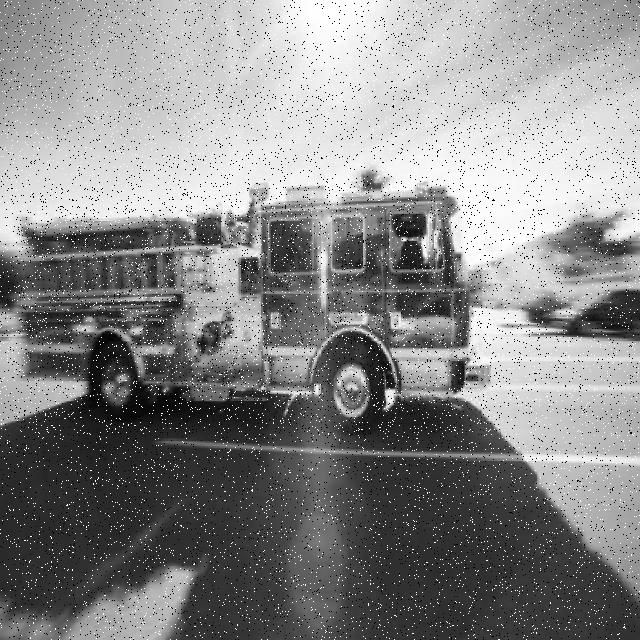Fire Truck: (16, 183, 491, 435)
